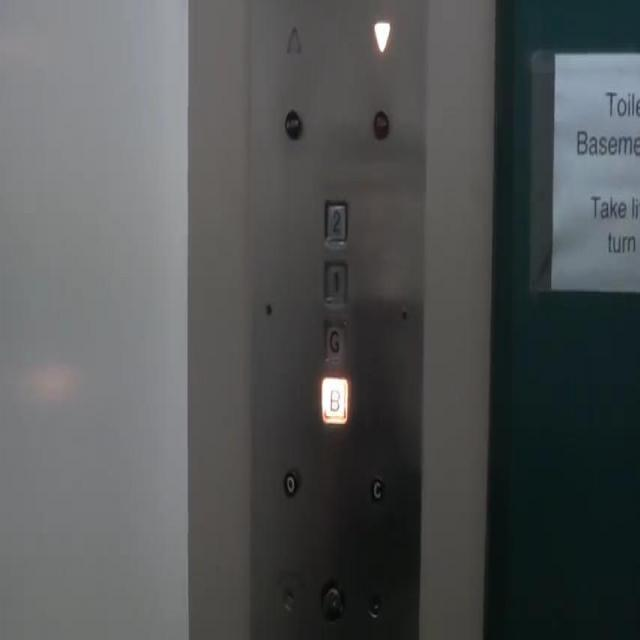1: (321, 257, 350, 308)
2: (323, 197, 348, 248)
B: (320, 375, 348, 425)
C: (369, 473, 384, 504)
G: (321, 316, 347, 365)
O: (284, 468, 298, 499)
blur: (283, 106, 302, 138), (372, 108, 390, 140), (366, 590, 381, 618), (281, 588, 296, 613)
keyhole: (318, 579, 346, 620)
